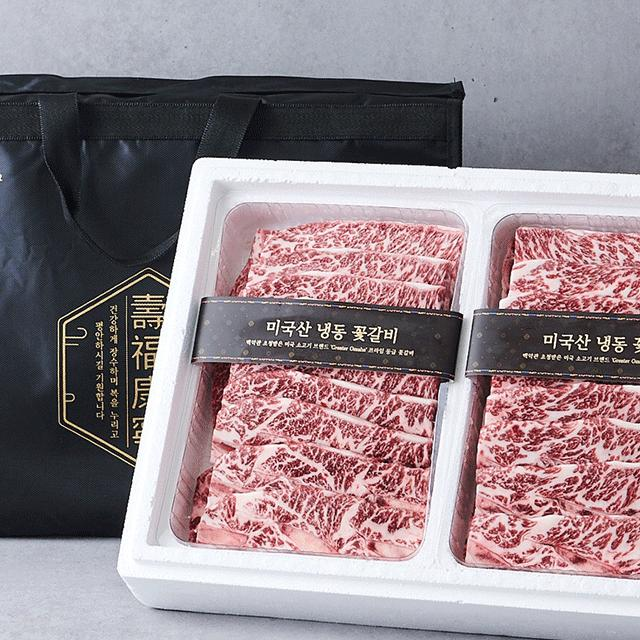beef: (188, 193, 442, 553), (482, 208, 640, 584)
